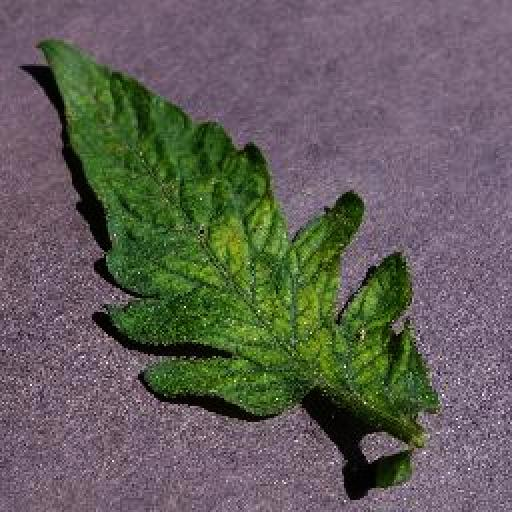Mosaic Virus: (30, 36, 444, 442)
